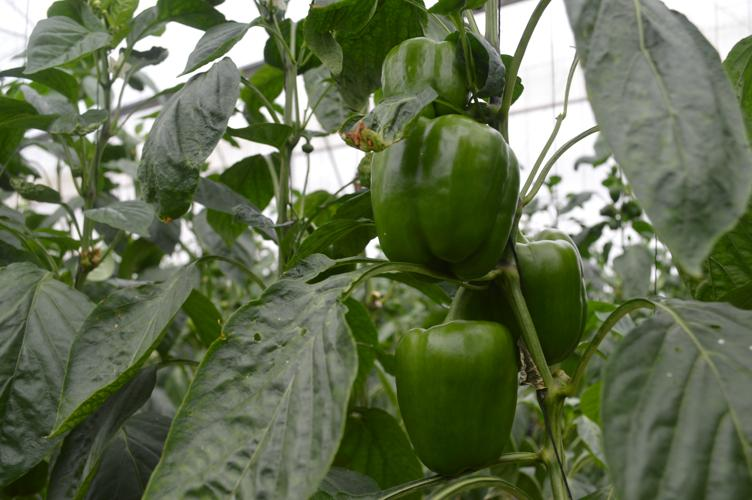BellPepper: (348, 109, 522, 284), (387, 321, 518, 478), (489, 230, 590, 360), (373, 35, 483, 115)
